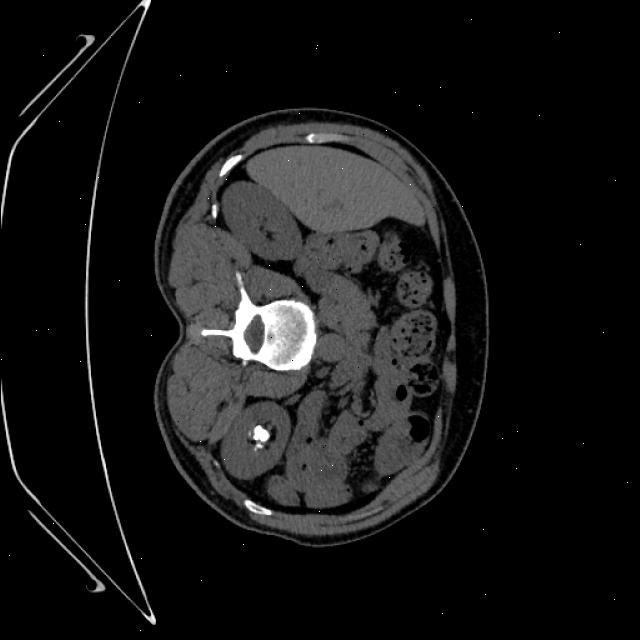kidneystone: (249, 425, 270, 449)
